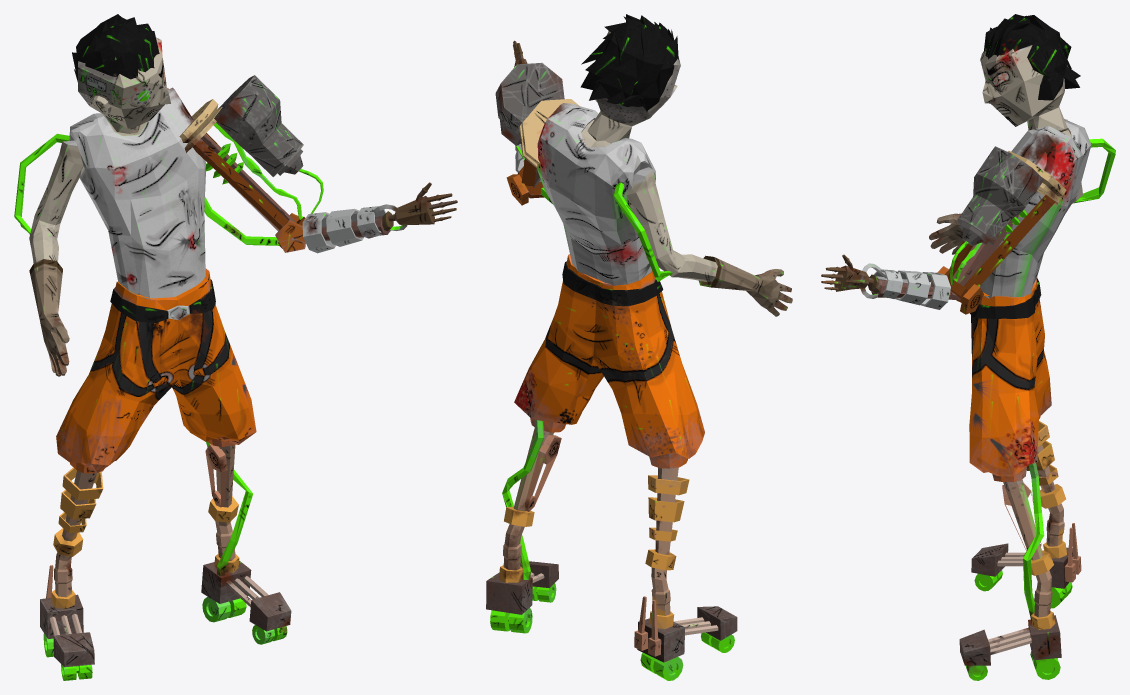
The model's file is CyborgFINALAnimation_000021.obj.
3 views of the same model, side by side, from view 1: azimuth 30°, elevation 25°; view 2: azimuth 150°, elevation 25°; view 3: azimuth 270°, elevation 25° (orthographic). The views are drawn at different scales.
Parts seen in each view (by area): view 1: CyborgMesh_Cube.002; view 2: CyborgMesh_Cube.002; view 3: CyborgMesh_Cube.002.
Boxes of the visible parts, box(x1,y1,x2,y2) form: CyborgMesh_Cube.002: box(14, 14, 457, 680); CyborgMesh_Cube.002: box(486, 14, 792, 680); CyborgMesh_Cube.002: box(821, 14, 1115, 680).
Size of the model in its own units: 5.31 by 9.53 by 4.21.
